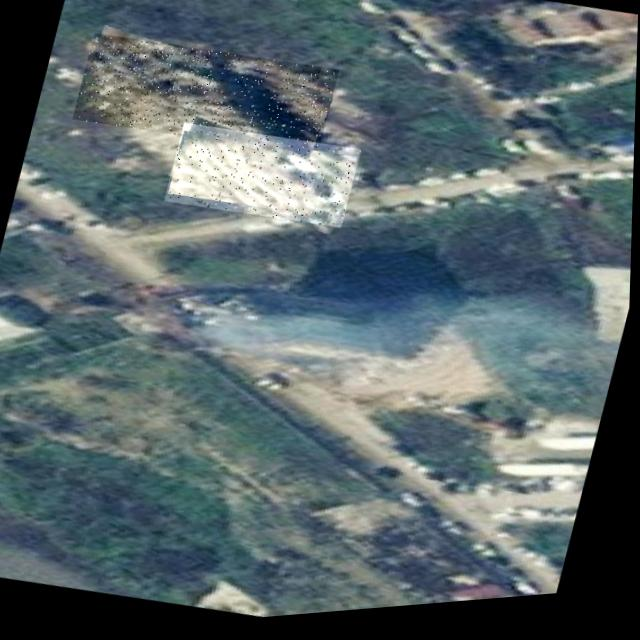Rubble: (72, 17, 341, 176), (164, 113, 363, 244)
